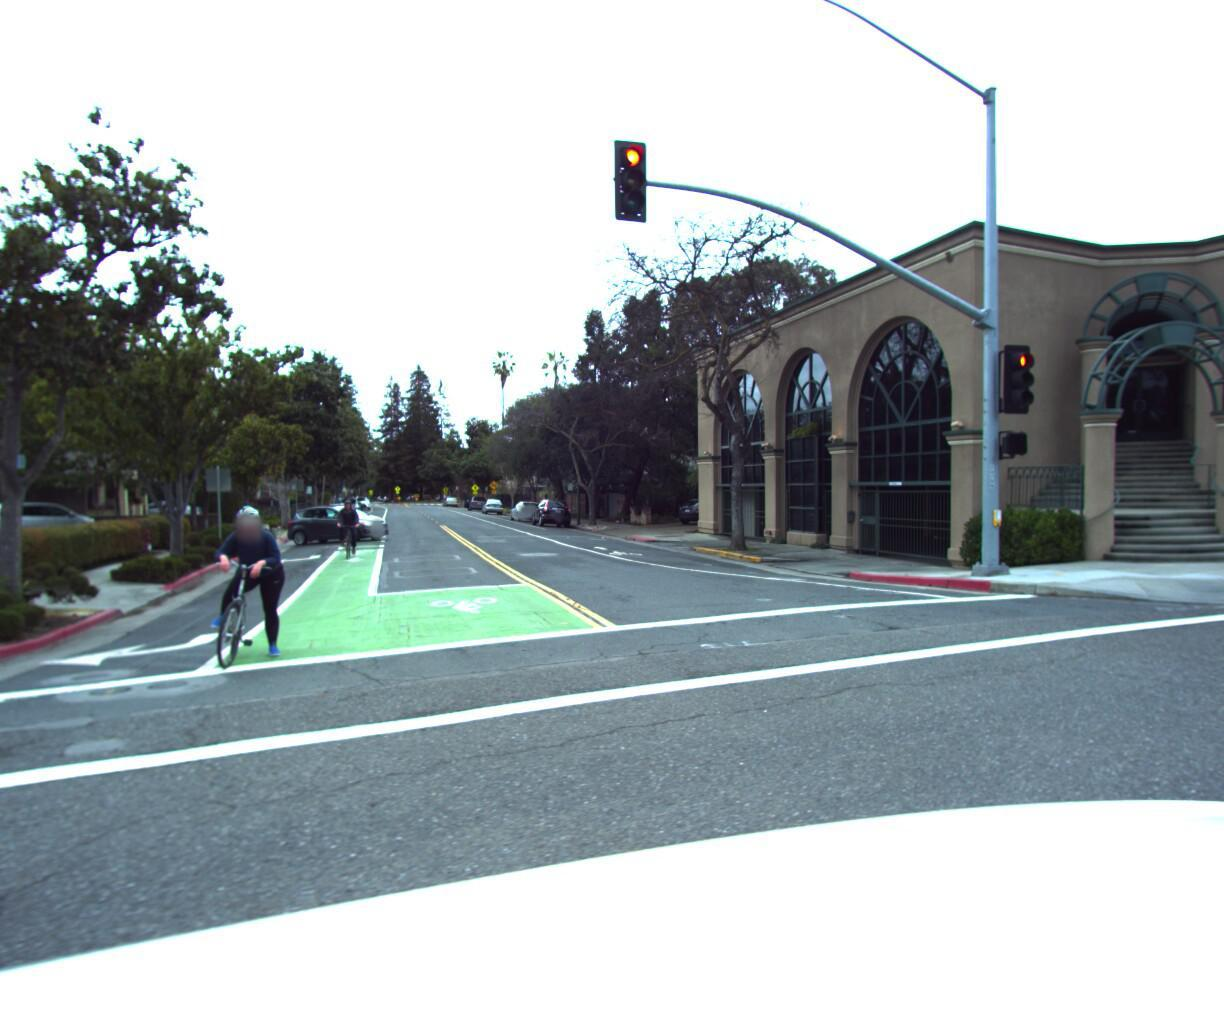bicycle: (185, 507, 301, 700), (327, 496, 364, 560)
car: (284, 505, 399, 545), (672, 490, 749, 524), (531, 495, 576, 527), (510, 495, 547, 521), (482, 494, 505, 511)
